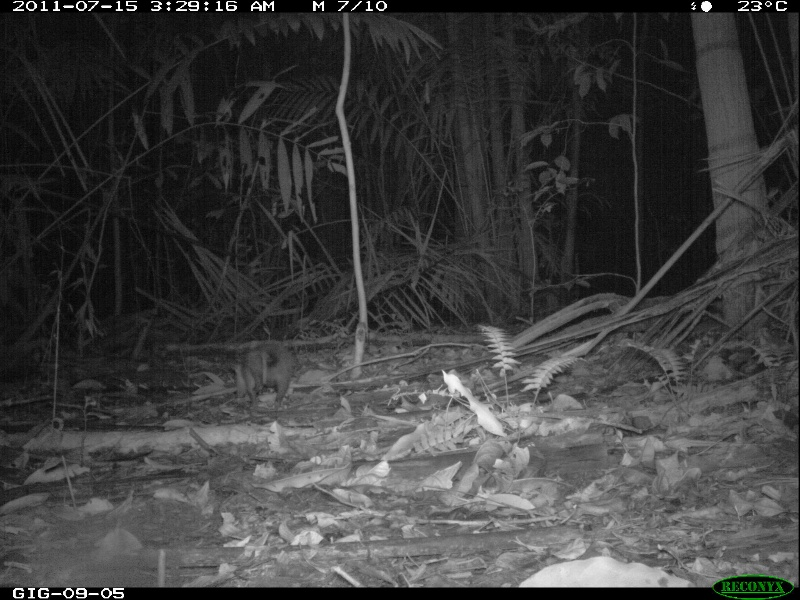opossum: (231, 341, 295, 411)
